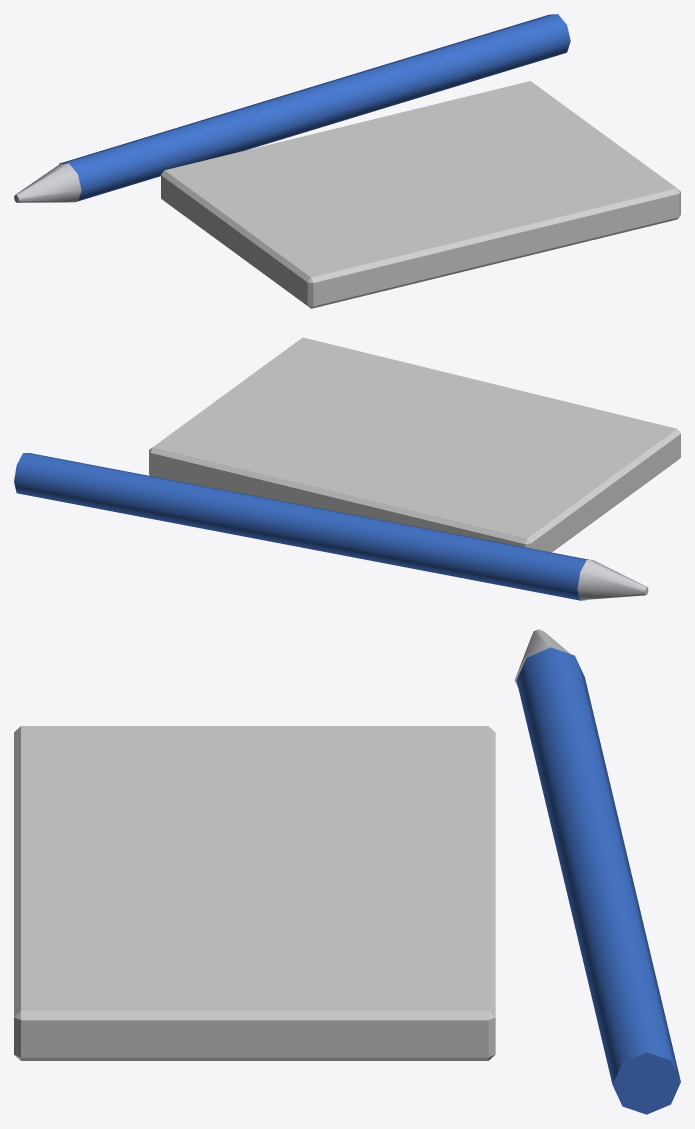
File: etiquetas_caneta.obj
3 renders of one model, top to bottom at view 1: azimuth 30°, elevation 25°; view 2: azimuth 150°, elevation 25°; view 3: azimuth 270°, elevation 25°, orthographic. The views are drawn at different scales.
Visible parts, largest first — view 1: etiquetas_caneta; view 2: etiquetas_caneta; view 3: etiquetas_caneta.
Boxes of the visible parts, x1,y1,x2,y2 form: etiquetas_caneta: [14, 14, 680, 308]; etiquetas_caneta: [14, 337, 680, 600]; etiquetas_caneta: [14, 629, 680, 1114].
Size of the model in its own units: 0.1547 by 0.011 by 0.097.
